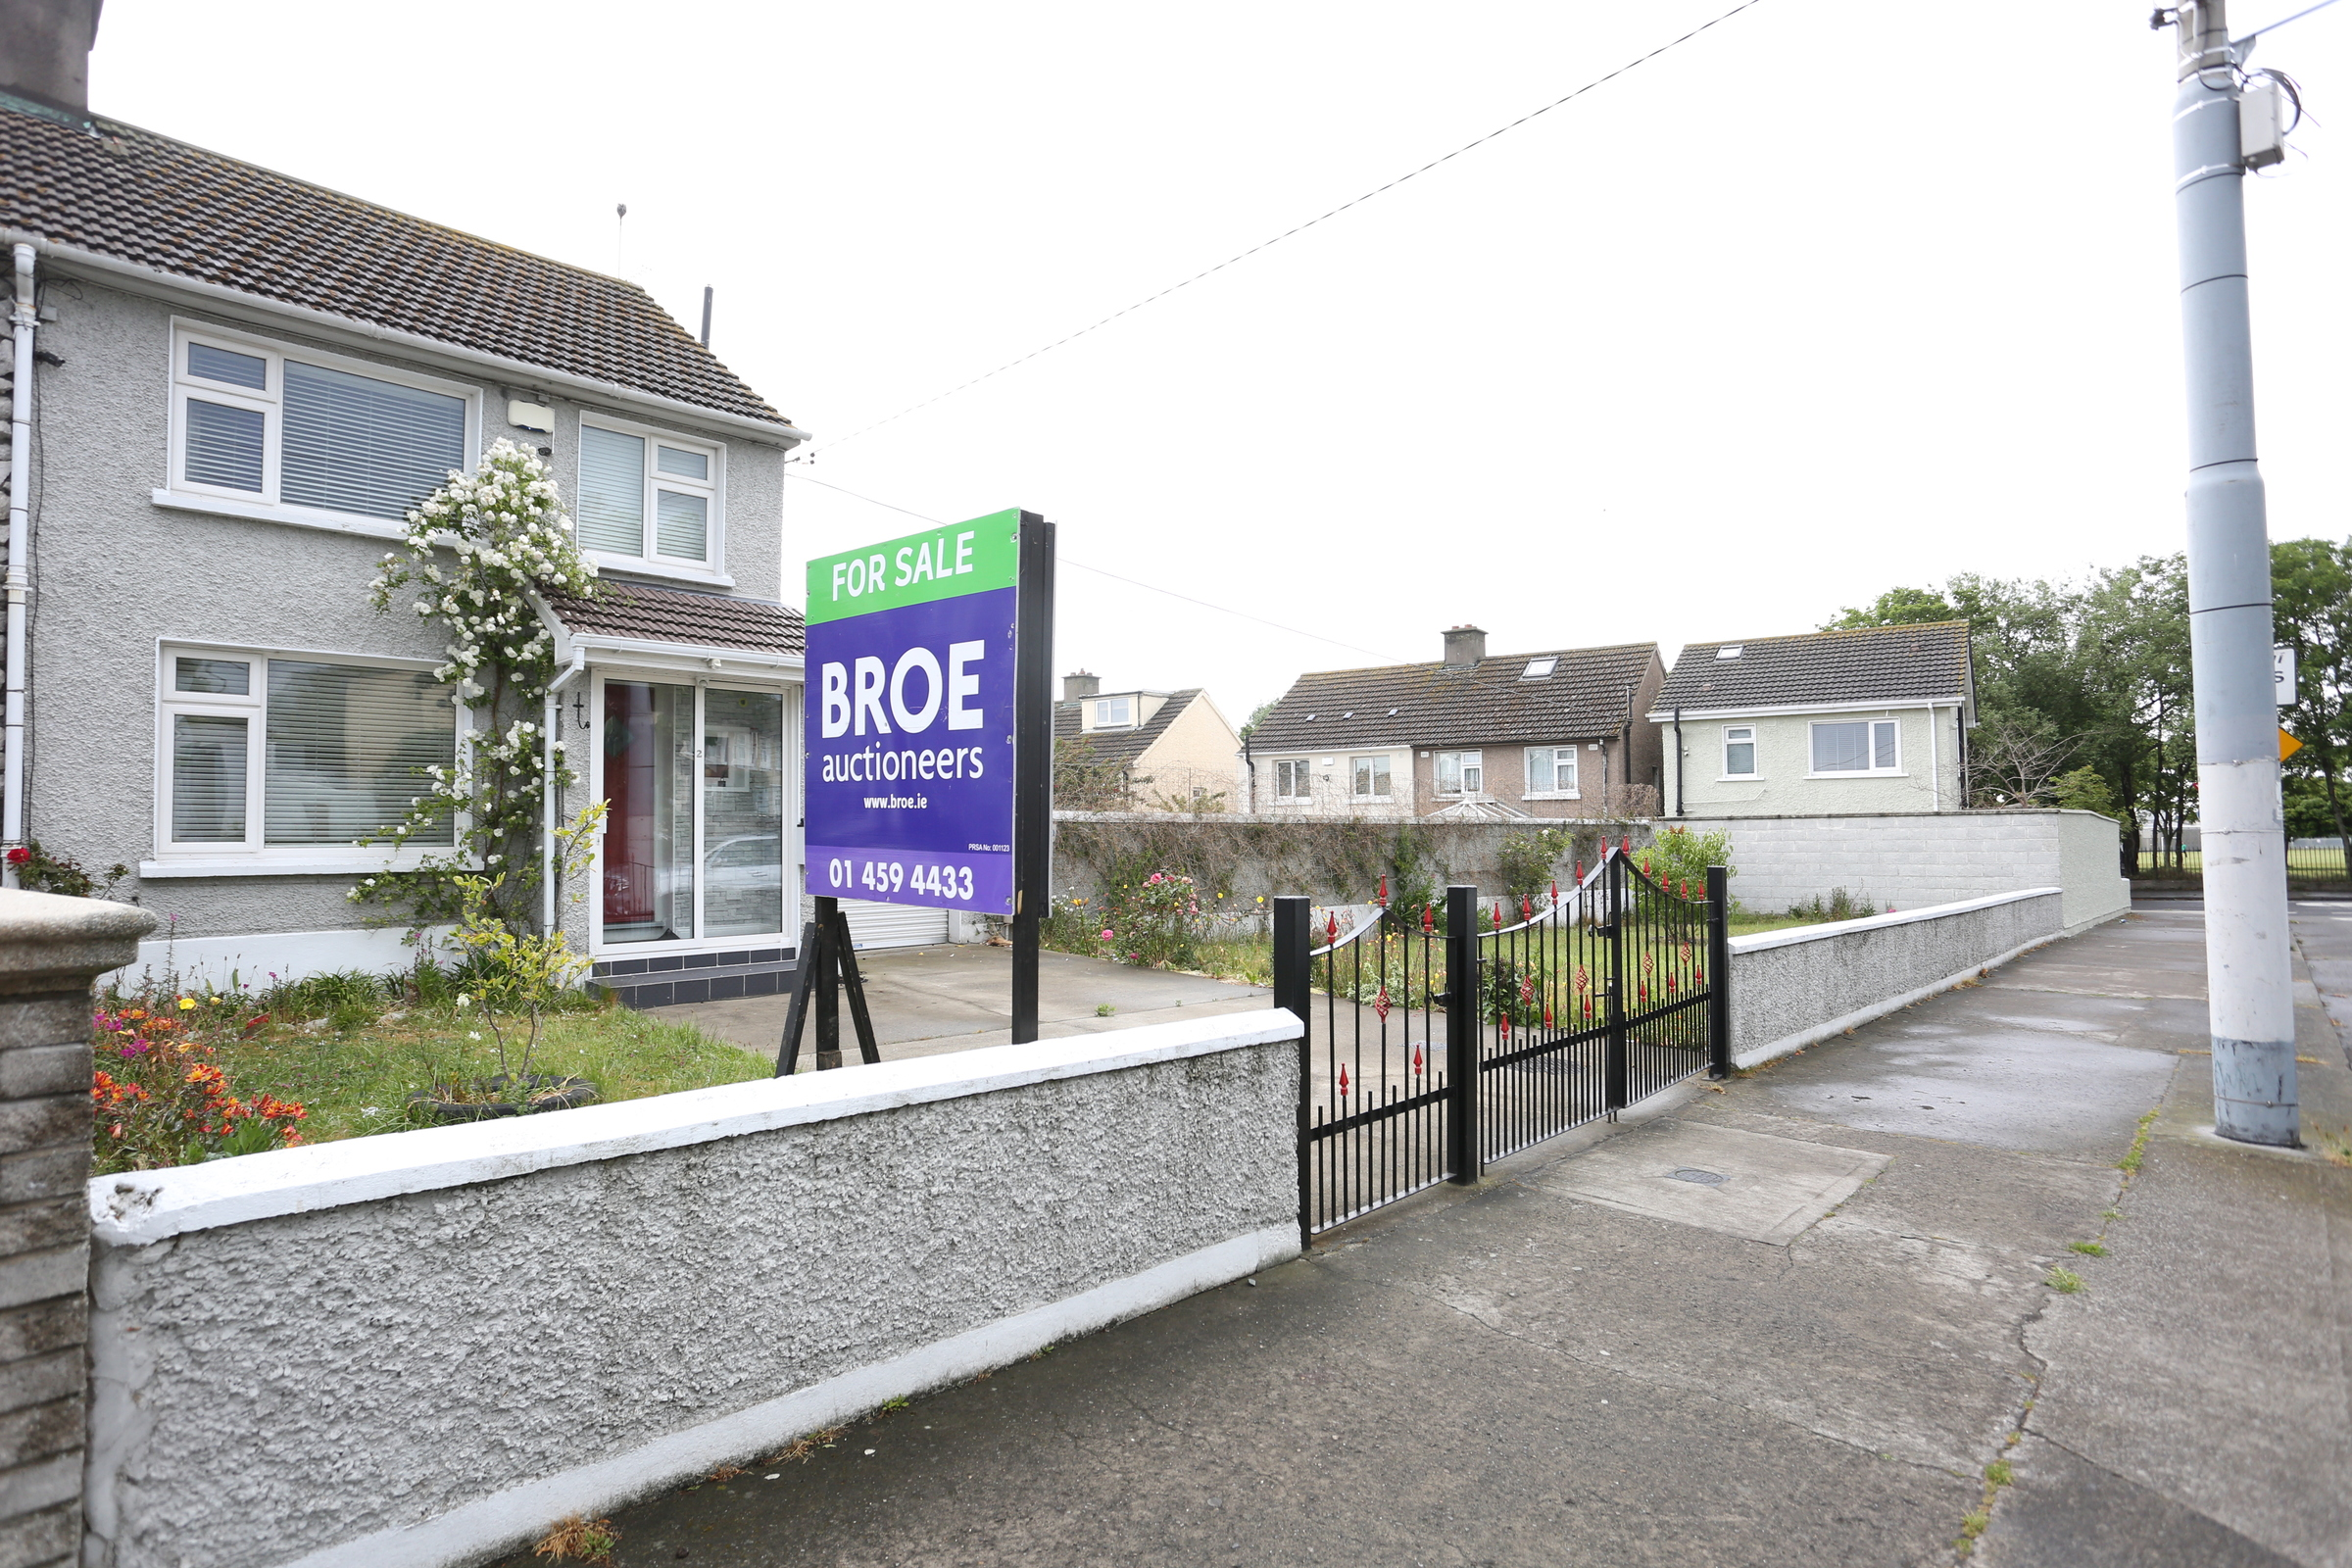property sign: (742, 494, 1101, 935)
